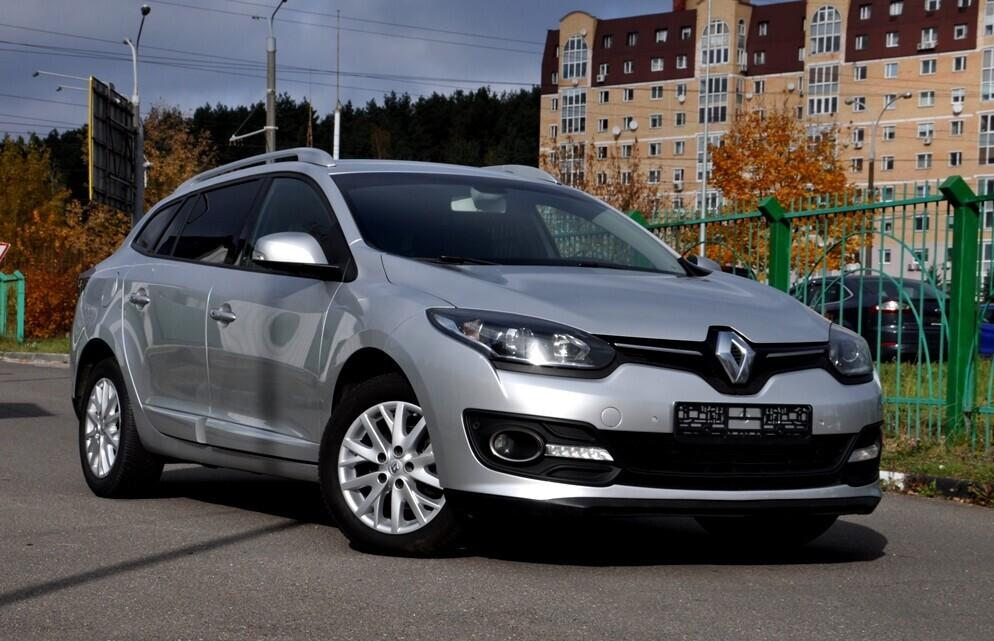Megane_2014-2016: (68, 147, 893, 547)
